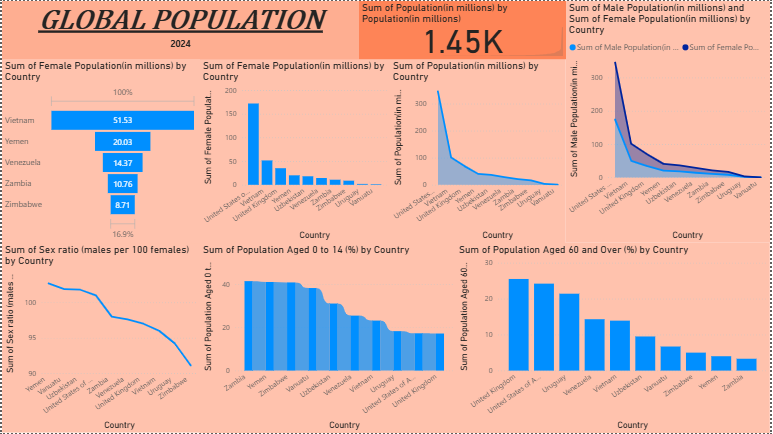

What the dashboard file says about the page in this screenshot:
{"tool":"powerbi","page":{"name":"Page 1","canvas":[1280,720],"ordinal":0},"visuals":[{"type":"clusteredColumnChart","fields":{"Category":["global_population_stats_2024.Country"],"Y":["Sum(global_population_stats_2024.Female Population(in millions))"]},"box":[330,96.7,316.7,306.7],"z":0},{"type":"textbox","box":[0,0,595,96.7],"z":1000},{"type":"stackedAreaChart","fields":{"Category":["global_population_stats_2024.Country"],"Y":["Sum(global_population_stats_2024.Population(in millions))"]},"box":[646.7,96.7,293.3,306.7],"z":2000},{"type":"stackedAreaChart","fields":{"Category":["global_population_stats_2024.Country"],"Y":["Sum(global_population_stats_2024.Male Population(in millions))","Sum(global_population_stats_2024.Female Population(in millions))"]},"box":[940,0,340,403.3],"z":3000},{"type":"ribbonChart","fields":{"Category":["global_population_stats_2024.Country"],"Y":["Sum(global_population_stats_2024.Population Aged 0 to 14 (%))"]},"box":[330,403.3,426.7,316.7],"z":4000},{"type":"lineClusteredColumnComboChart","fields":{"Category":["global_population_stats_2024.Country"],"Y":["Sum(global_population_stats_2024.Population Aged 60 and Over (%))"]},"box":[756.7,403.3,523.3,316.7],"z":5000},{"type":"kpi","fields":{"Indicator":["Sum(global_population_stats_2024.Population(in millions))"],"TrendLine":["global_population_stats_2024.Population(in millions)"]},"box":[595,0,345,96.7],"z":5001},{"type":"lineChart","fields":{"Y":["Sum(global_population_stats_2024.Sex ratio (males per 100 females))"],"Category":["global_population_stats_2024.Country"]},"box":[0,404,330,316],"z":5003},{"type":"funnel","fields":{"Category":["global_population_stats_2024.Country"],"Y":["Sum(global_population_stats_2024.Female Population(in millions))"]},"box":[0,97,330,307],"z":5004}]}

Visuals, with their boxes in screenshot pixels (x1, y1, x2, y2), scaled from the page's 1280x720 canvas onto the 773x434 screenshot:
clusteredColumnChart - global_population_stats_2024.Country x Sum(global_population_stats_2024.Female Population(in millions)): l=199, t=58, r=391, b=243
textbox: l=0, t=0, r=359, b=58
stackedAreaChart - global_population_stats_2024.Country x Sum(global_population_stats_2024.Population(in millions)): l=391, t=58, r=568, b=243
stackedAreaChart - global_population_stats_2024.Country x Sum(global_population_stats_2024.Male Population(in millions)): l=568, t=0, r=772, b=243
ribbonChart - global_population_stats_2024.Country x Sum(global_population_stats_2024.Population Aged 0 to 14 (%)): l=199, t=243, r=457, b=433
lineClusteredColumnComboChart - global_population_stats_2024.Country x Sum(global_population_stats_2024.Population Aged 60 and Over (%)): l=457, t=243, r=772, b=433
kpi - Sum(global_population_stats_2024.Population(in millions)) x global_population_stats_2024.Population(in millions): l=359, t=0, r=568, b=58
lineChart - Sum(global_population_stats_2024.Sex ratio (males per 100 females)) x global_population_stats_2024.Country: l=0, t=244, r=199, b=433
funnel - global_population_stats_2024.Country x Sum(global_population_stats_2024.Female Population(in millions)): l=0, t=58, r=199, b=244
